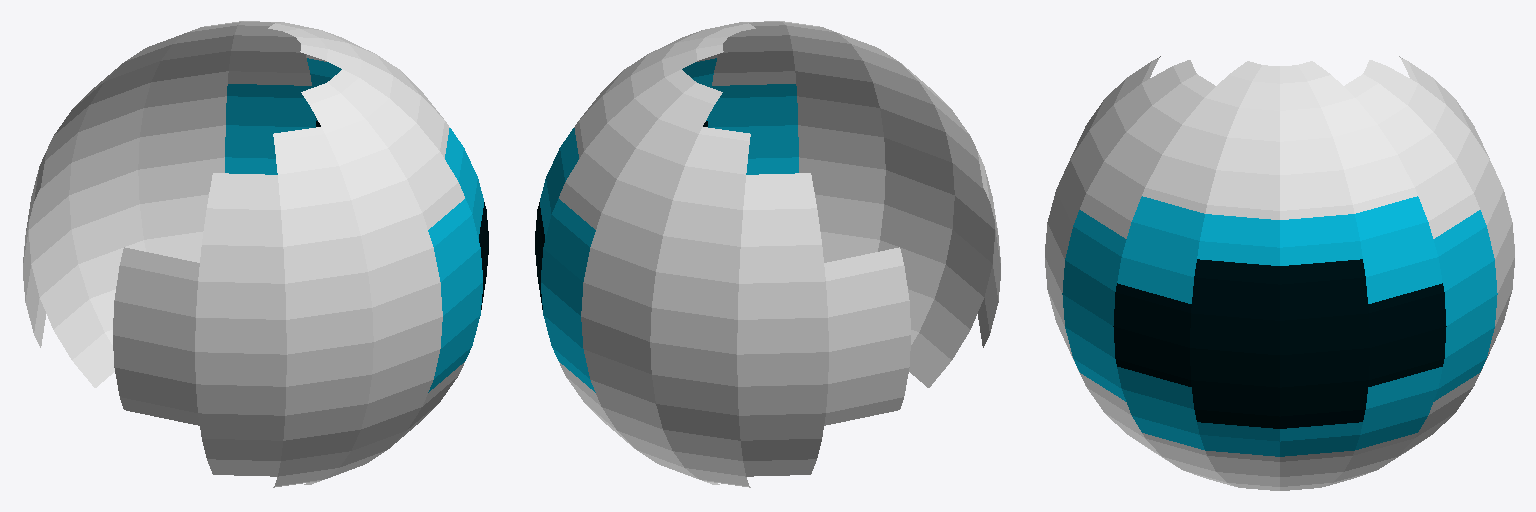
3 renders of one model, left to right at view 1: azimuth 30°, elevation 25°; view 2: azimuth 150°, elevation 25°; view 3: azimuth 270°, elevation 25°, orthographic.
Parts seen in each view (by area): view 1: Sphere_Sphere; view 2: Sphere_Sphere; view 3: Sphere_Sphere.
Boxes of the visible parts, x1,y1,x2,y2 form: Sphere_Sphere: [23, 21, 488, 487]; Sphere_Sphere: [535, 21, 1000, 487]; Sphere_Sphere: [1045, 56, 1514, 490].
Size of the model in its own units: 2 by 2 by 2.
1 materials, 1 textured.